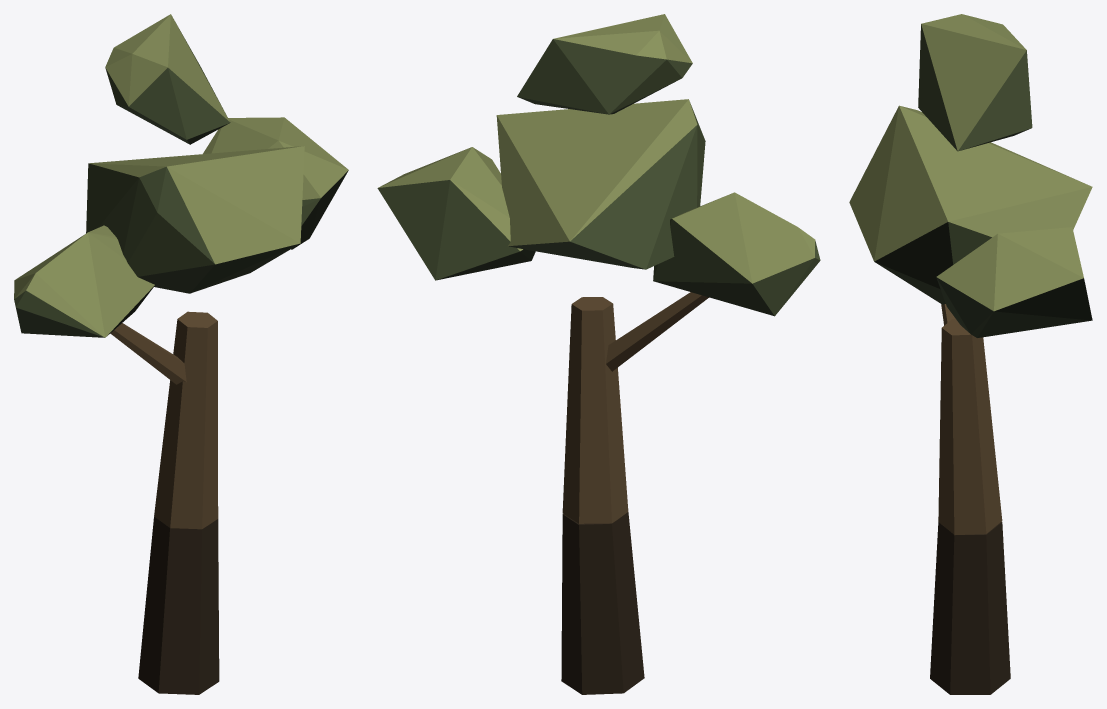
Rendered from tree_lone.glb.
The picture shows the model from 3 angles, left to right: view 1: azimuth 30°, elevation 25°; view 2: azimuth 150°, elevation 25°; view 3: azimuth 270°, elevation 25°; orthographic projection. The views are drawn at different scales.
Visible parts, largest first — view 1: tree_lone; view 2: tree_lone; view 3: tree_lone.
Boxes of the visible parts, x1,y1,x2,y2 form: tree_lone: (14, 14, 348, 694); tree_lone: (377, 14, 820, 694); tree_lone: (849, 14, 1092, 694).
Bounding box in the file's own units: 2.52 × 4.2 × 1.45.
